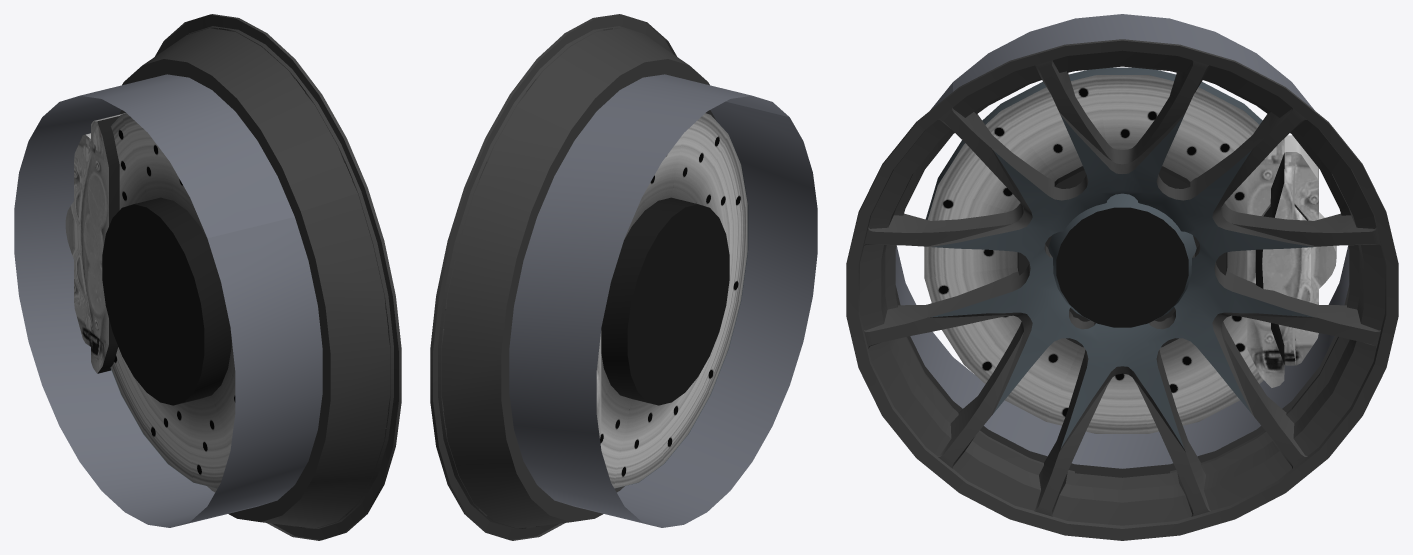
The picture shows the model from 3 angles, left to right: view 1: azimuth 30°, elevation 25°; view 2: azimuth 150°, elevation 25°; view 3: azimuth 270°, elevation 25°; orthographic projection. The views are drawn at different scales.
Visible parts, largest first — view 1: 083, BrakeDisc, Caliper; view 2: 083, BrakeDisc, Caliper; view 3: 083, BrakeDisc, Caliper.
Part boxes in pixels (box(x1,y1,x2,y2)): 083: box(14, 14, 401, 540); BrakeDisc: box(102, 113, 235, 488); Caliper: box(65, 113, 125, 373); 083: box(430, 14, 817, 540); BrakeDisc: box(600, 113, 748, 488); Caliper: box(596, 331, 601, 438); 083: box(846, 14, 1398, 540); BrakeDisc: box(924, 67, 1263, 433); Caliper: box(1247, 135, 1336, 387).
Size of the model in its own units: 0.1628 by 0.5328 by 0.5328.
